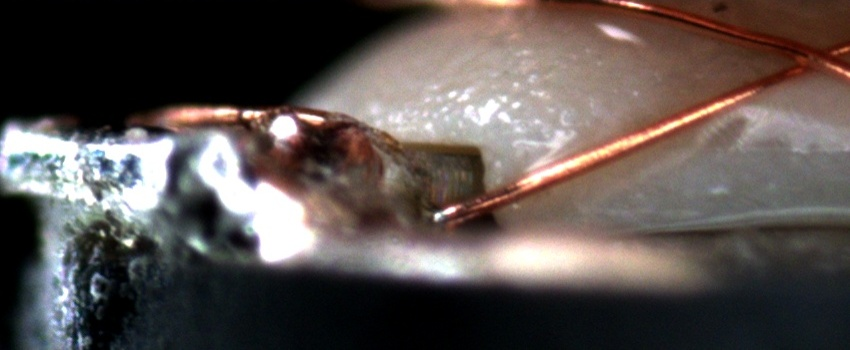CL: (769, 35, 844, 83)
TE: (150, 102, 358, 132)
